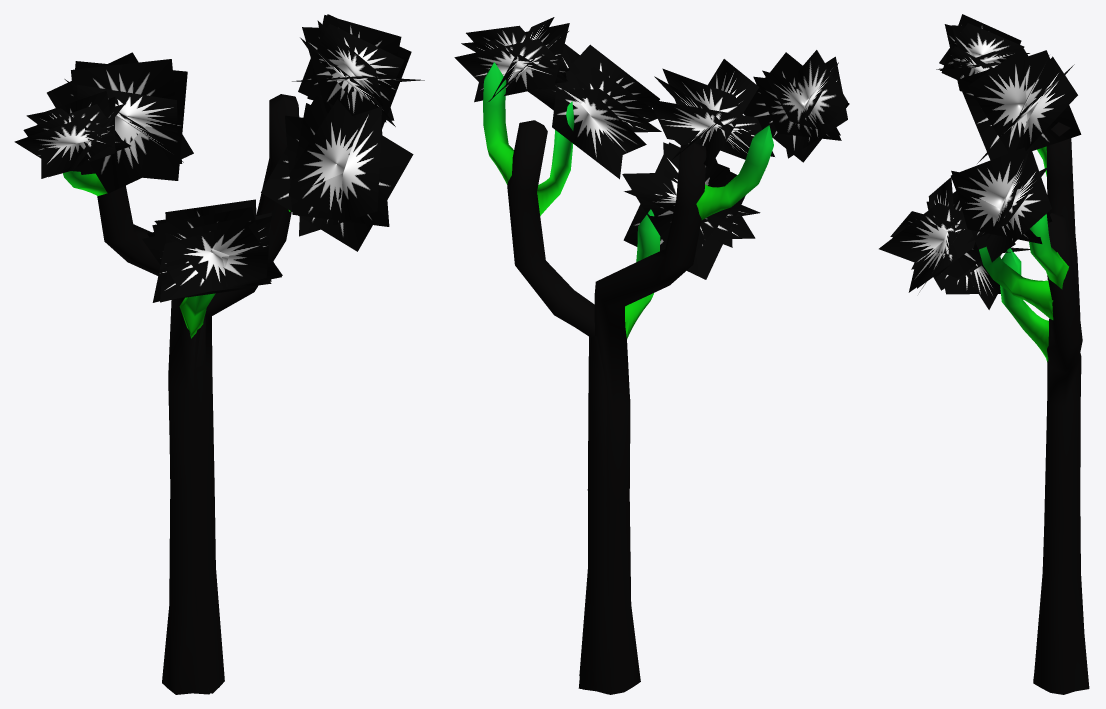
Rendered from SM_JoshuaTree01.fbx.
3 views of the same model, side by side, from view 1: azimuth 30°, elevation 25°; view 2: azimuth 150°, elevation 25°; view 3: azimuth 270°, elevation 25° (orthographic). The views are drawn at different scales.
Parts seen in each view (by area): view 1: t_joshua_1, SM_JoshuaTree01; view 2: SM_JoshuaTree01, t_joshua_1; view 3: t_joshua_1, SM_JoshuaTree01.
Boxes of the visible parts, x1,y1,x2,y2 form: t_joshua_1: (14,14,424,302); SM_JoshuaTree01: (63,94,299,694); SM_JoshuaTree01: (483,62,773,694); t_joshua_1: (454,17,849,279); t_joshua_1: (879,14,1081,309); SM_JoshuaTree01: (979,122,1089,694).
Bounding box in the file's own units: 476 × 754 × 245.
